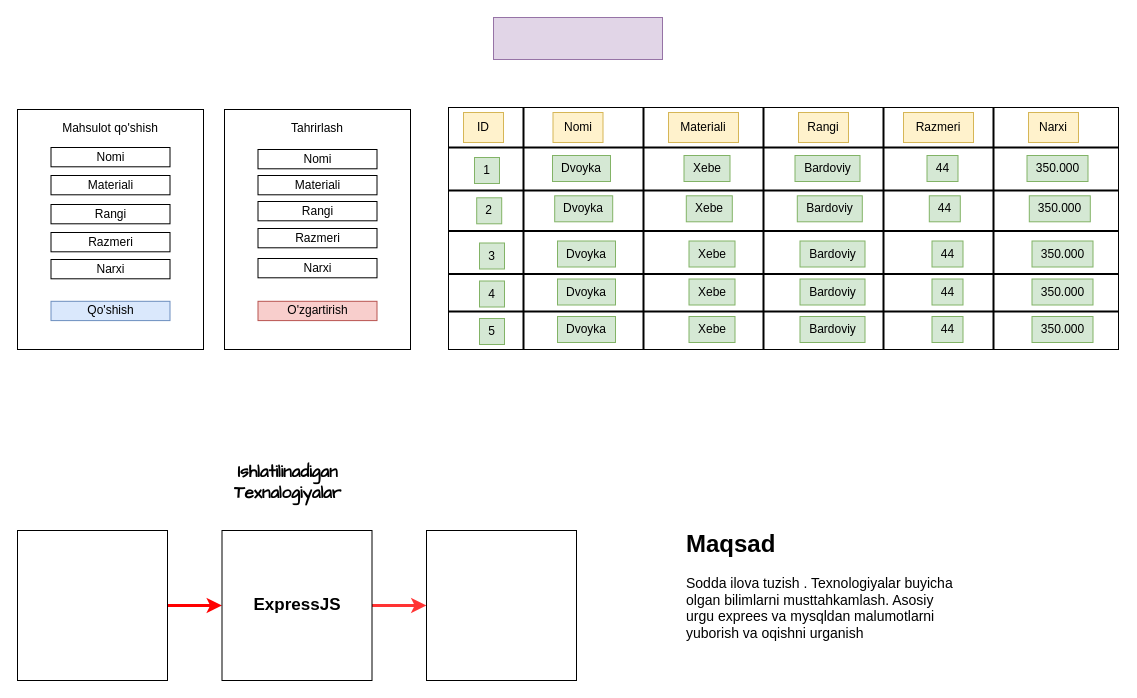
Image size: 1137x698. Some labels were removed from this diagram. Here are the shapes that lost their labels. From the top down, the centre of each, then its label:
pixel 577 38: AsmoShop CRUD loyiha Create Read Update Delete
pixel 92 605: React Native
pixel 501 605: MySQL
